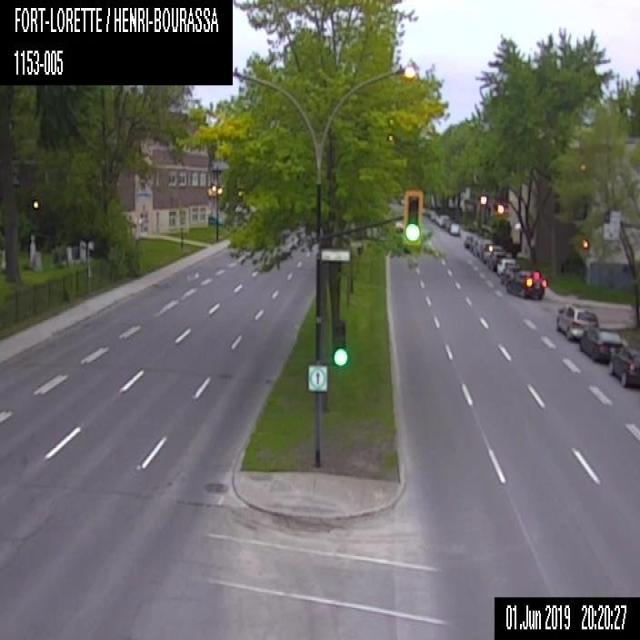vehicle: (580, 324, 624, 364), (555, 304, 598, 344), (504, 267, 547, 300), (610, 342, 639, 389), (486, 247, 507, 270), (500, 264, 521, 285), (474, 236, 493, 258), (482, 243, 502, 262), (496, 258, 516, 276), (469, 234, 481, 253), (463, 233, 474, 248), (448, 221, 459, 235)
